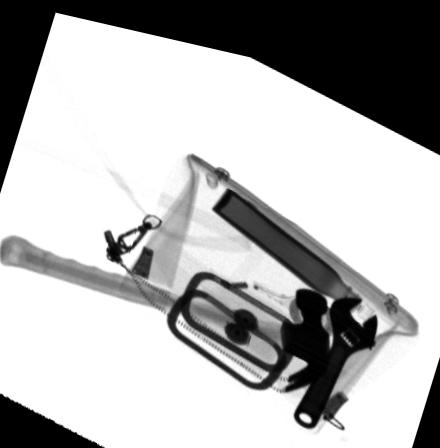Hammer: (0, 233, 329, 381)
Wrench: (292, 281, 376, 415)
